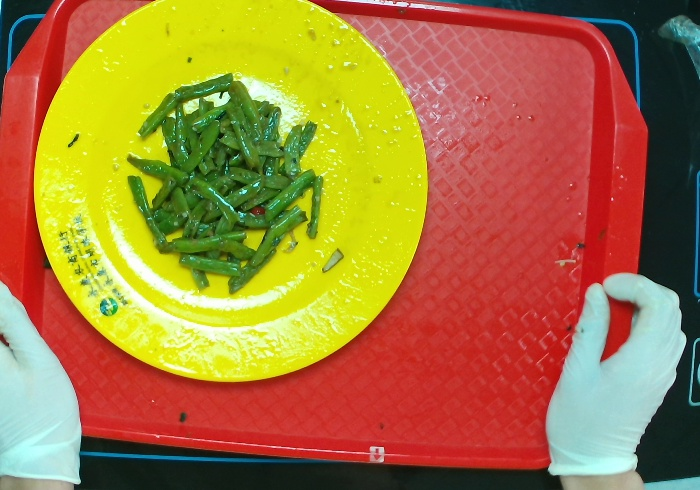YKMZ-Huang_Se_Mian_Pan: (31, 1, 431, 389)
